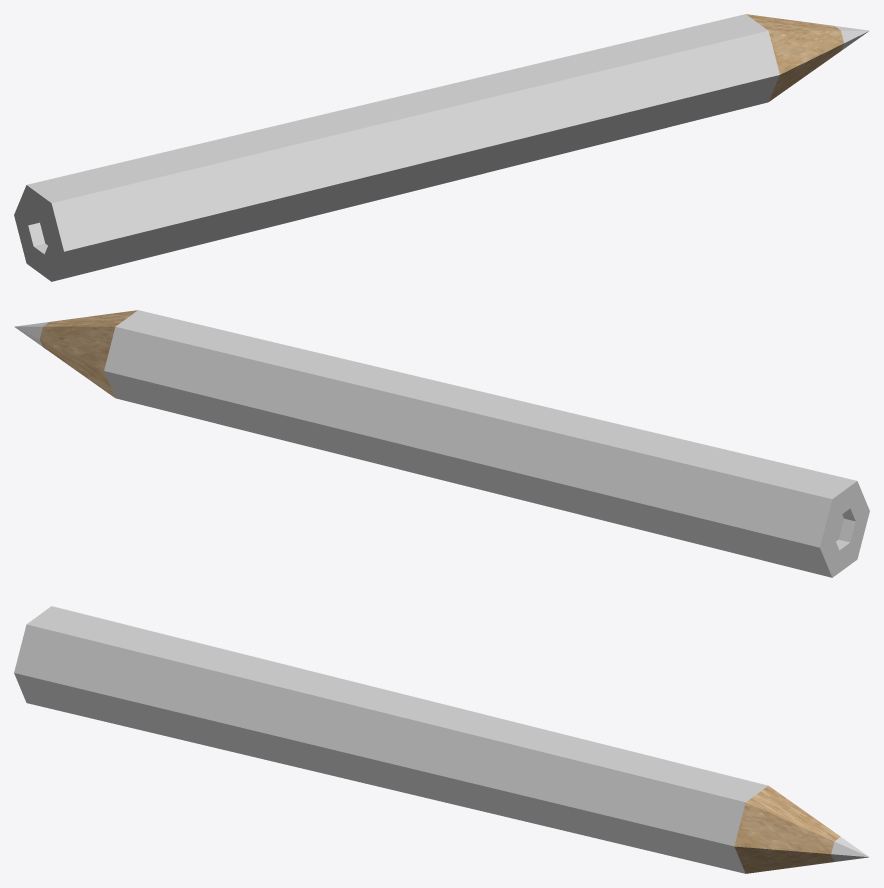
File: Matita_5_grigio.fbx
3 renders of one model, top to bottom at view 1: azimuth 30°, elevation 25°; view 2: azimuth 150°, elevation 25°; view 3: azimuth 330°, elevation 25°, orthographic.
Parts seen in each view (by area): view 1: Cylinder.011; view 2: Cylinder.011; view 3: Cylinder.011.
Part boxes in pixels (bbox=[...]): Cylinder.011: bbox=[14, 14, 869, 281]; Cylinder.011: bbox=[14, 310, 869, 577]; Cylinder.011: bbox=[14, 606, 869, 873].
Size of the model in its own units: 0.0355 by 0.00321 by 0.00371.
2 materials, 1 textured.
